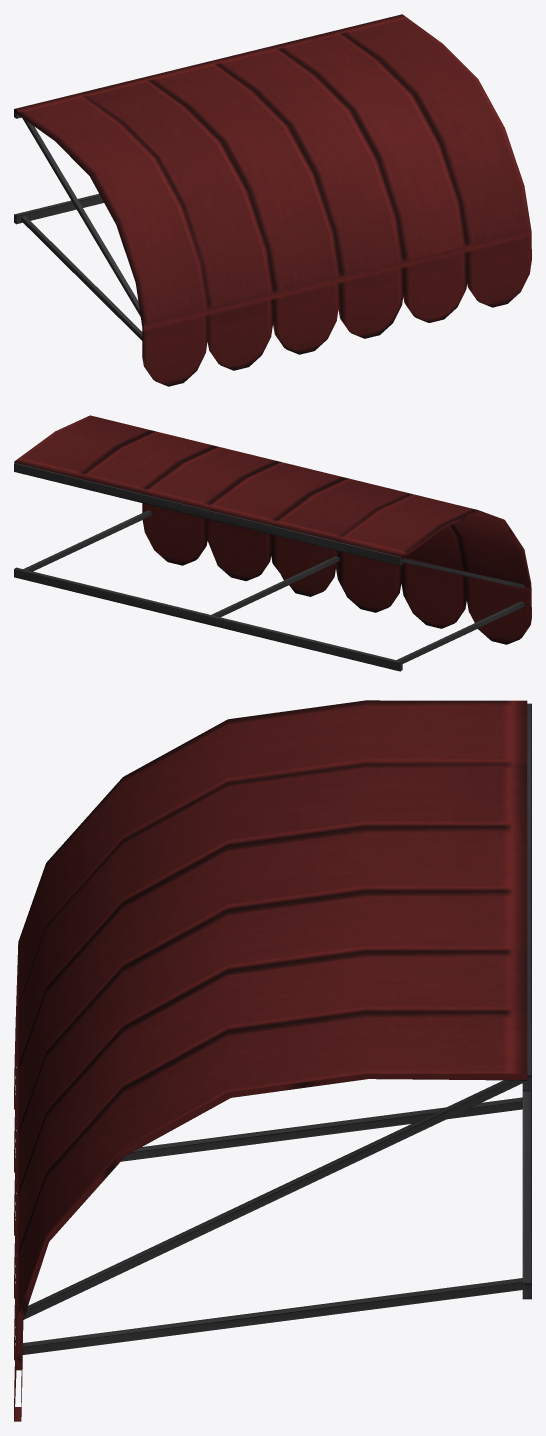
The model's file is ds_canopy_2_A.FBX.
The picture shows the model from 3 angles, top to bottom: view 1: azimuth 30°, elevation 25°; view 2: azimuth 150°, elevation 25°; view 3: azimuth 270°, elevation 25°; orthographic projection. The views are drawn at different scales.
Visible parts, largest first — view 1: ds_canopy_2_A; view 2: ds_canopy_2_A; view 3: ds_canopy_2_A.
Boxes of the visible parts, bbox=[...] form: ds_canopy_2_A: bbox=[14, 14, 531, 386]; ds_canopy_2_A: bbox=[14, 415, 531, 671]; ds_canopy_2_A: bbox=[14, 700, 531, 1421].
Bounding box in the file's own units: 10.08 × 5.91 × 4.68.
